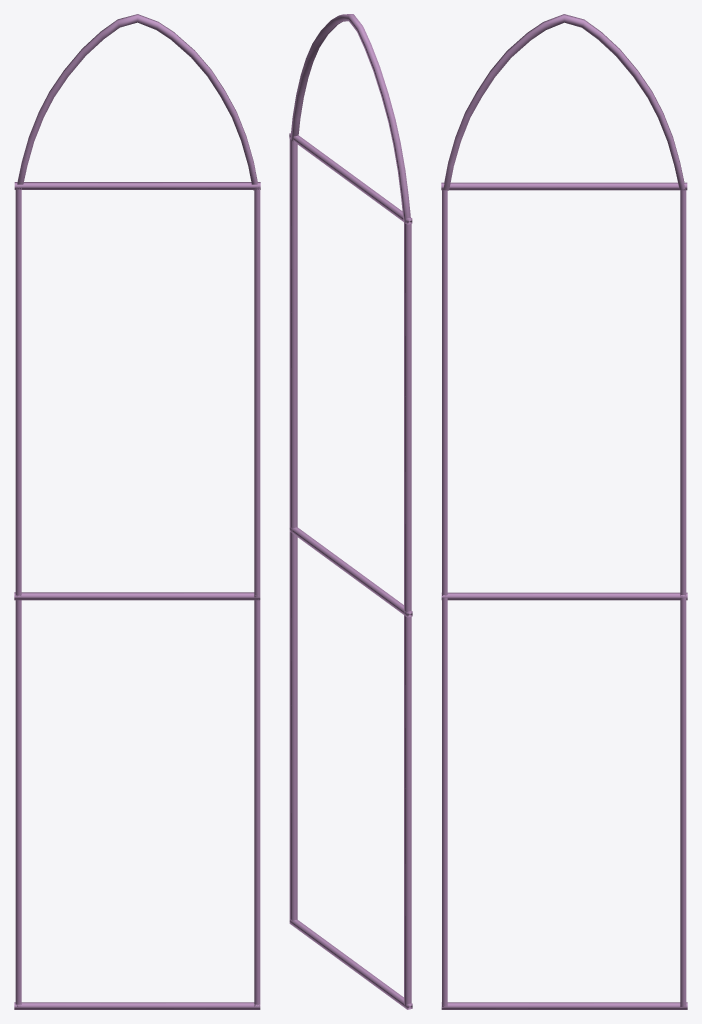
Rendered from StainedGlass_Metal_x2_Lod0.fbx.
3 views of the same model, side by side, from view 1: azimuth 90°, elevation 25°; view 2: azimuth 210°, elevation 25°; view 3: azimuth 270°, elevation 25° (orthographic). The views are drawn at different scales.
Visible parts, largest first — view 1: StainedGlass_Metal_x2_Lod0; view 2: StainedGlass_Metal_x2_Lod0; view 3: StainedGlass_Metal_x2_Lod0.
Boxes of the visible parts, x1,y1,x2,y2 form: StainedGlass_Metal_x2_Lod0: (14,14,260,1009); StainedGlass_Metal_x2_Lod0: (289,14,412,1009); StainedGlass_Metal_x2_Lod0: (441,14,687,1009).
Bounding box in the file's own units: 4.93 × 727 × 163.
